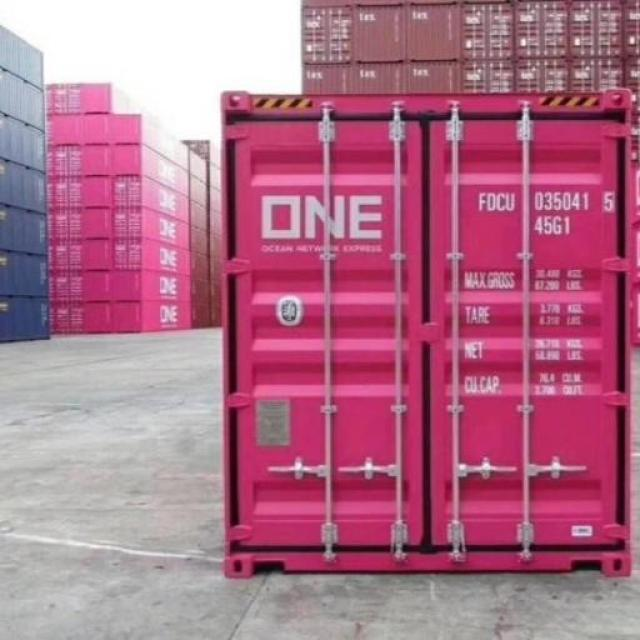ISO: (536, 215, 574, 235)
container_number: (476, 190, 609, 213)
